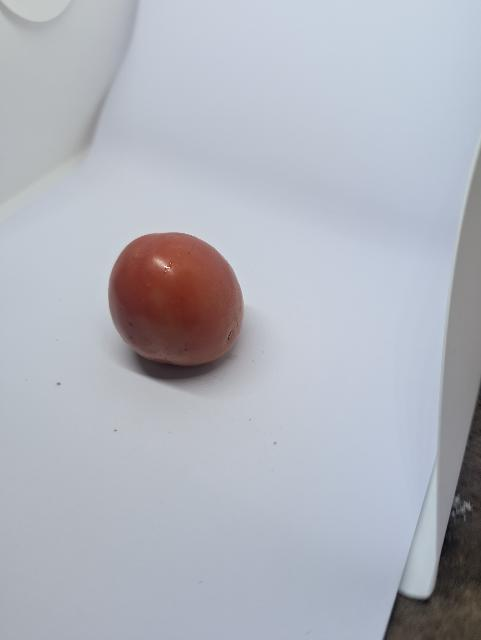red: (84, 224, 272, 384)
